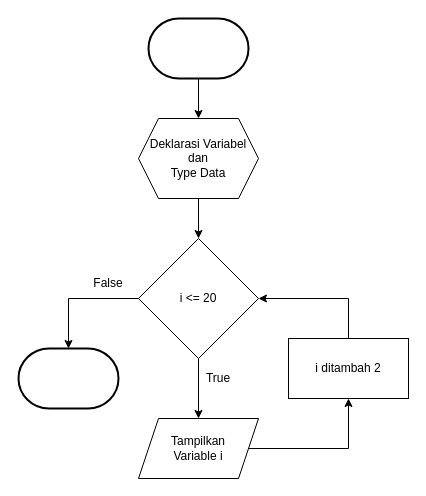
This 426x496 diagram has some shape labels left out. The shapes that lost their labels are listed below. From the top down, each one's centre as x and y in pixels, then its label:
[198,48]: Mulai
[68,378]: Selesai
